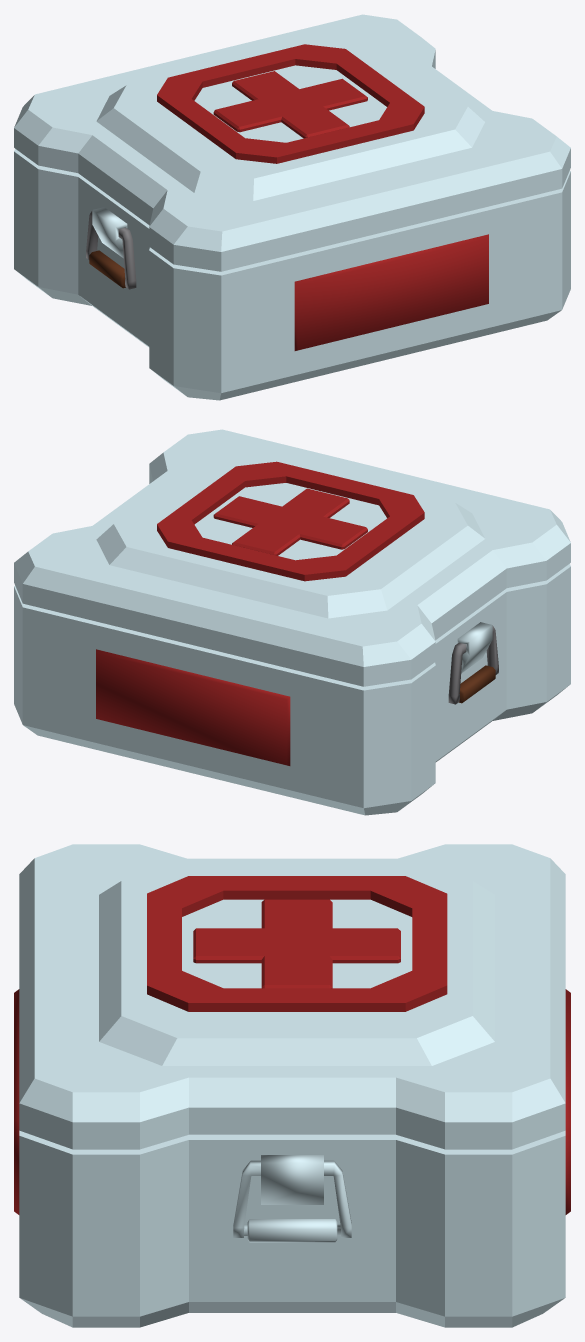
The model's file is crate-health.obj.
3 views of the same model, one above another, from view 1: azimuth 30°, elevation 25°; view 2: azimuth 150°, elevation 25°; view 3: azimuth 270°, elevation 25° (orthographic). The views are drawn at different scales.
Parts seen in each view (by area): view 1: crate-health.obj; view 2: crate-health.obj; view 3: crate-health.obj.
Part boxes in pixels (x1,y1,x2,y2): crate-health.obj: (14, 14, 570, 400); crate-health.obj: (14, 429, 570, 815); crate-health.obj: (14, 844, 570, 1327).
Size of the model in its own units: 0.6216 by 0.2867 by 0.548.
